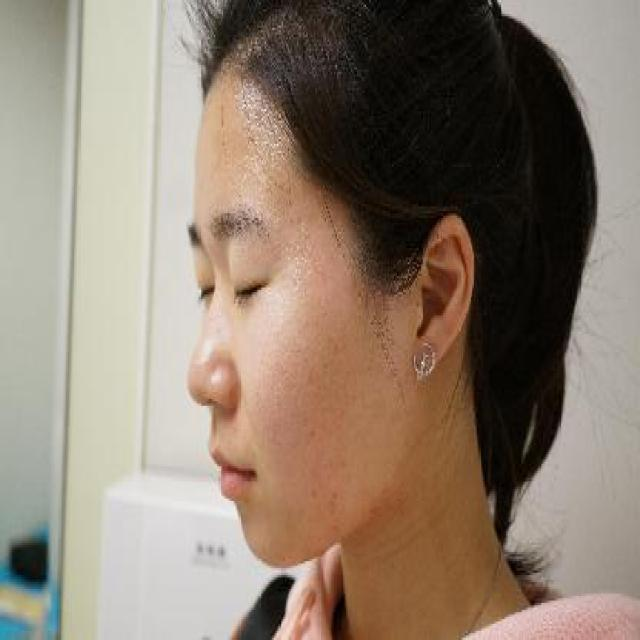dark spot: (304, 424, 318, 440), (324, 496, 334, 508), (329, 489, 338, 501), (371, 503, 378, 515)
